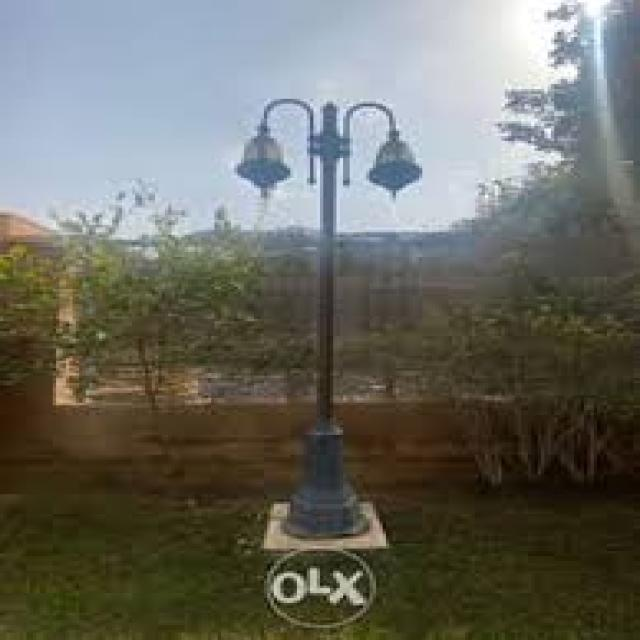Street Light: (231, 94, 425, 536)
